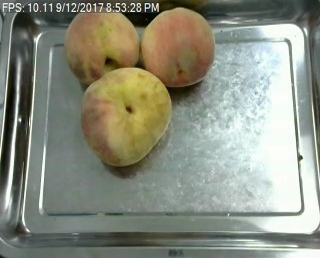Peach: (81, 67, 172, 166), (140, 6, 215, 88), (64, 5, 139, 83)
